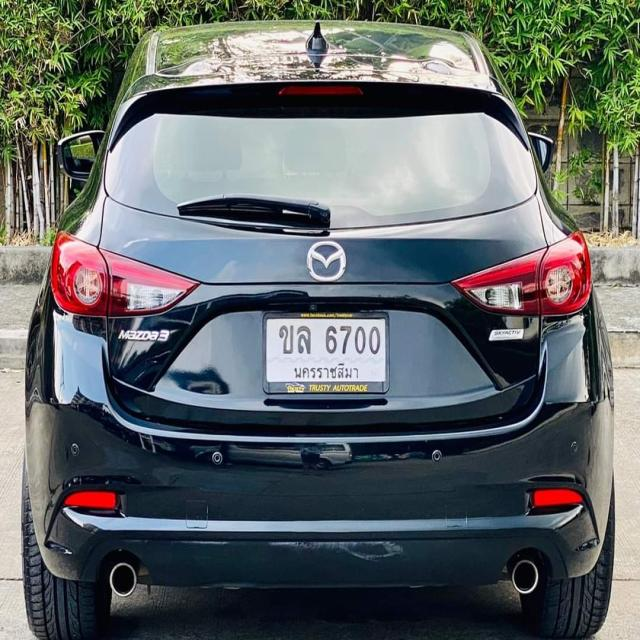license_plate: (261, 309, 391, 397)
